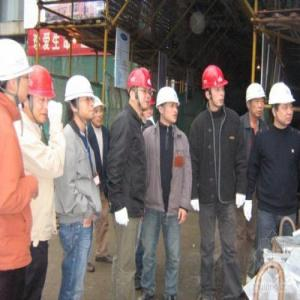red: (26, 64, 56, 126), (127, 66, 154, 114), (201, 63, 228, 111)
white: (2, 35, 32, 109), (65, 74, 95, 125), (269, 82, 296, 130), (156, 86, 181, 127), (245, 83, 267, 120), (92, 95, 106, 129)
